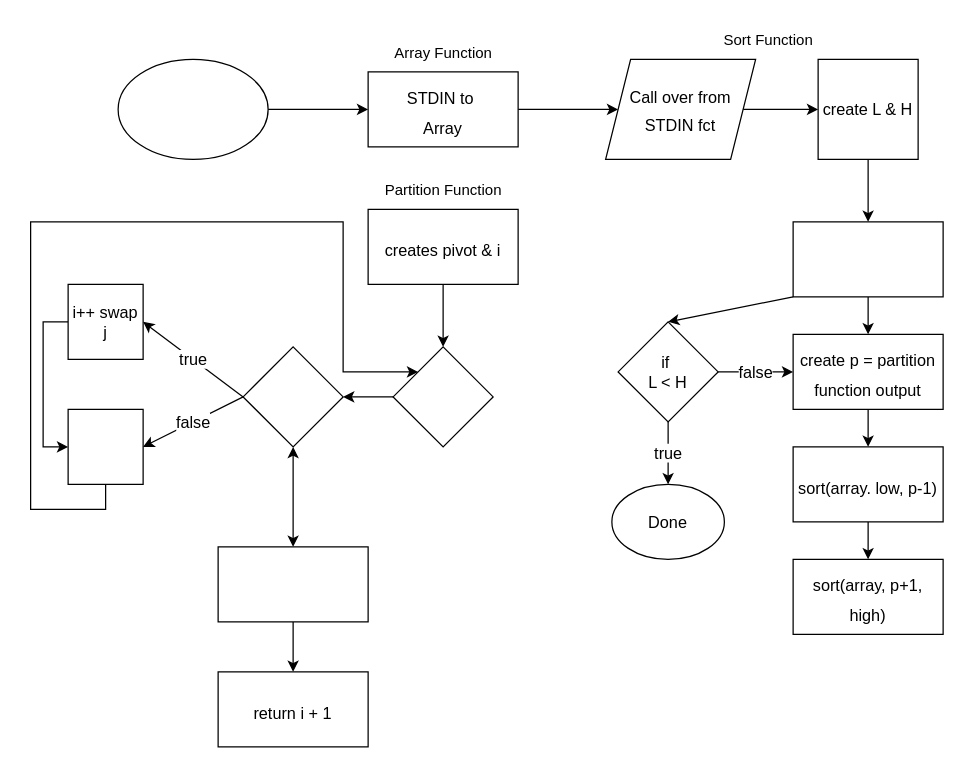
The diagram is 965 pixels wide and 769 high, and some of its shapes have lost their labels. Here are the shapes that lost their labels. From the top down, the box of each, then its label:
(117, 58, 268, 159): S tart
(792, 221, 943, 297): convert to acii
(242, 346, 343, 447): if array @ j > pivot
(392, 346, 493, 447): j = low
(67, 408, 143, 484): j++
(217, 546, 368, 622): swap array i + 1 array high
